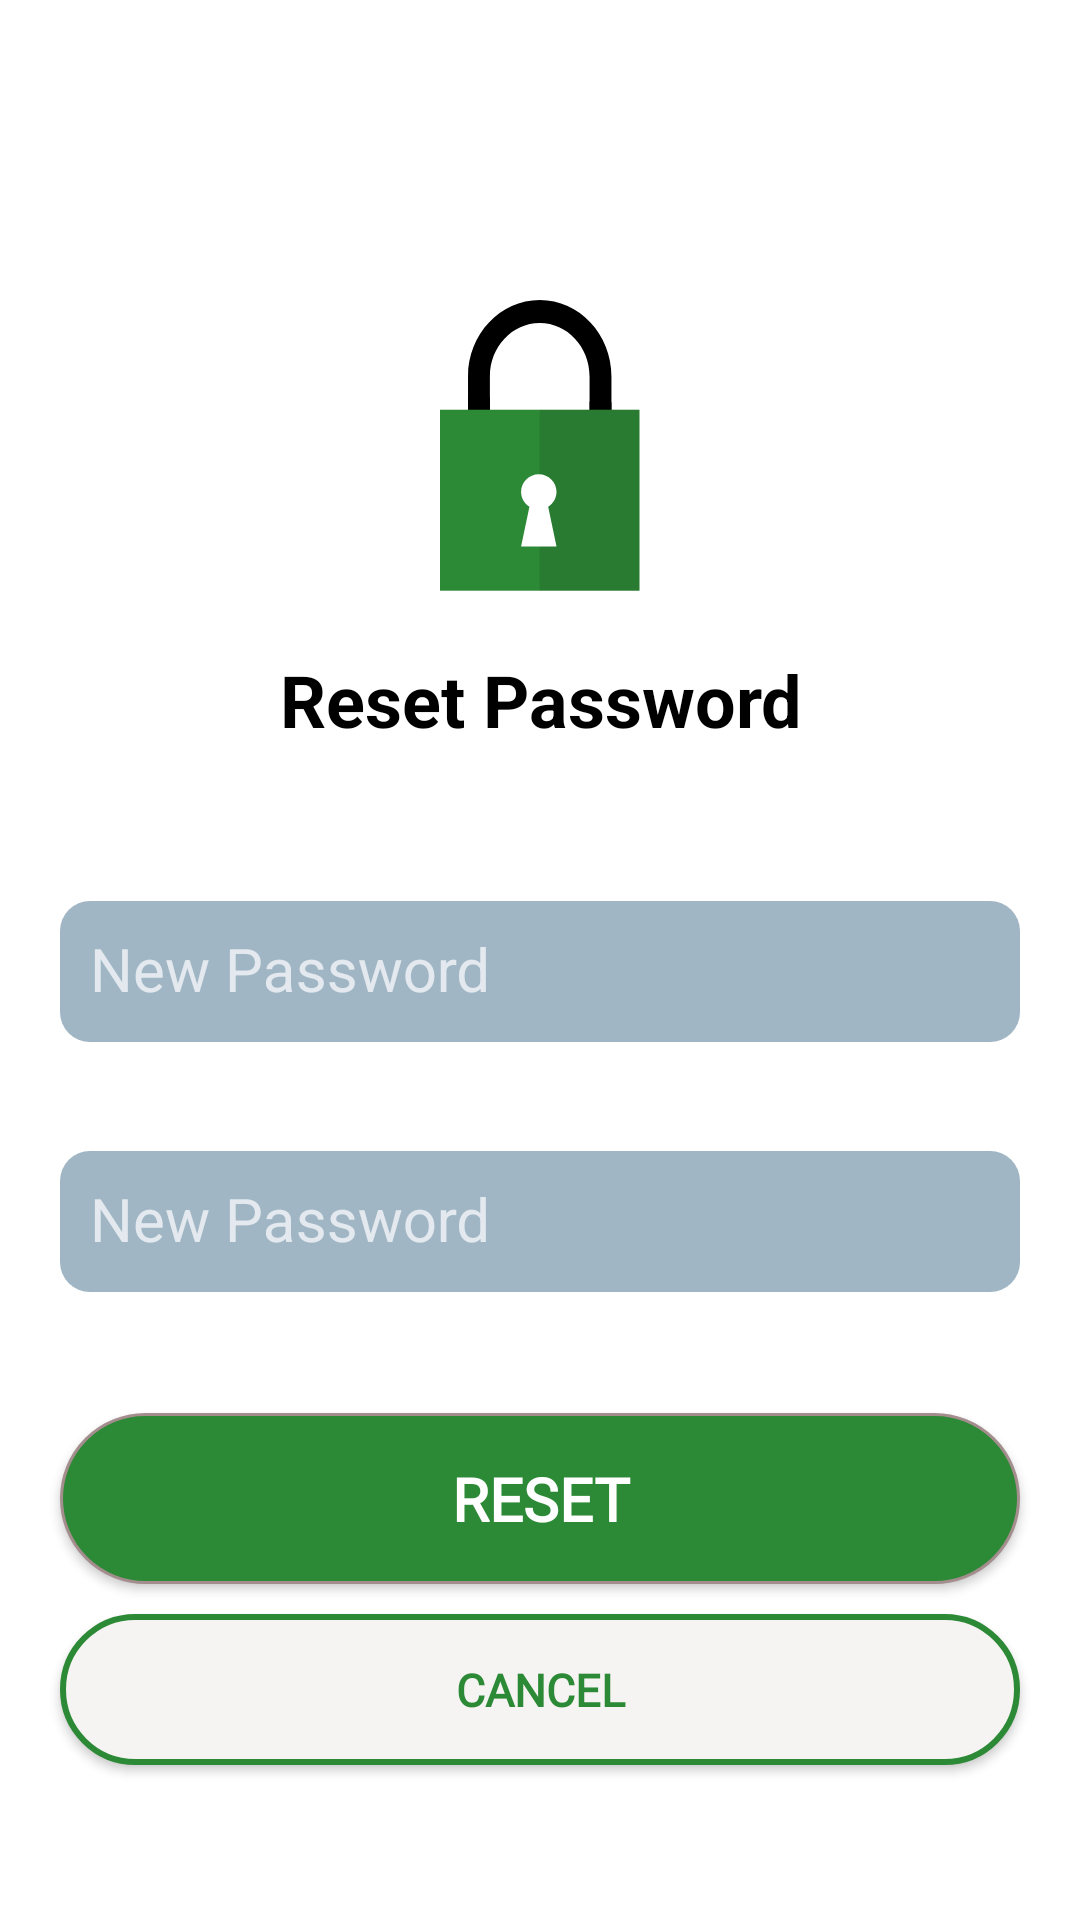

Screen size 1080*1920. Icon name, then its box in pixels as (x1, y1, x2, y2):
lock: (440, 300, 640, 591)
